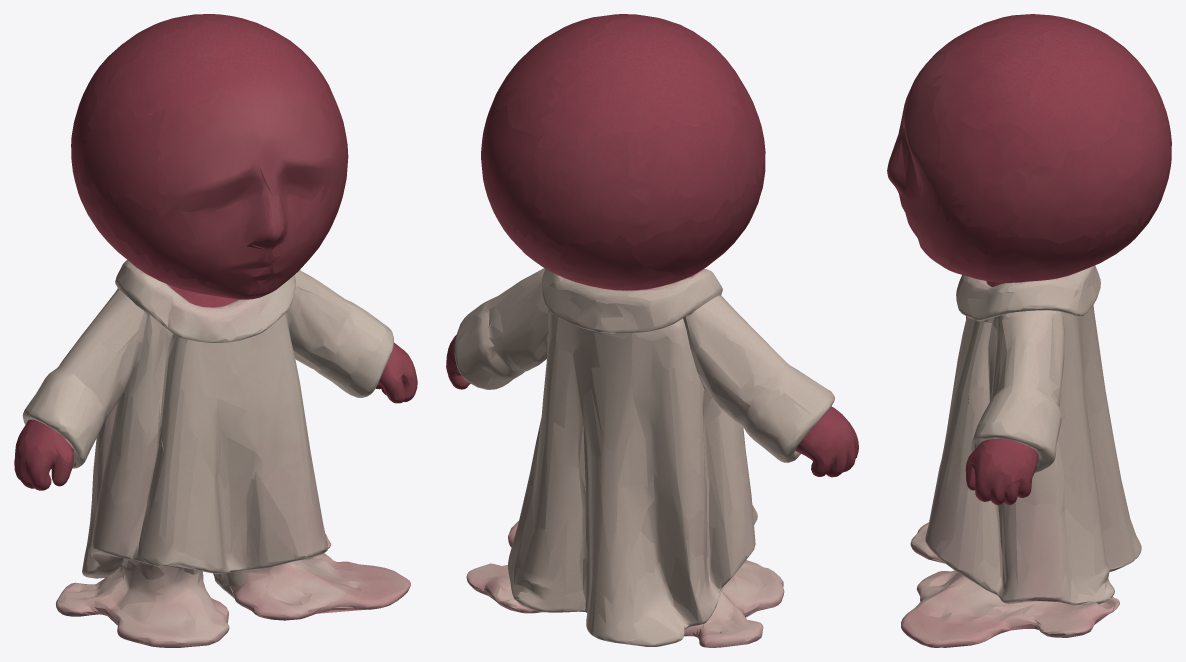
3 views of the same model, side by side, from view 1: azimuth 30°, elevation 25°; view 2: azimuth 150°, elevation 25°; view 3: azimuth 270°, elevation 25° (orthographic). The views are drawn at different scales.
Bounding box in the file's own units: 1.41 × 1.9 × 0.8928.
1 material, 1 textured.
